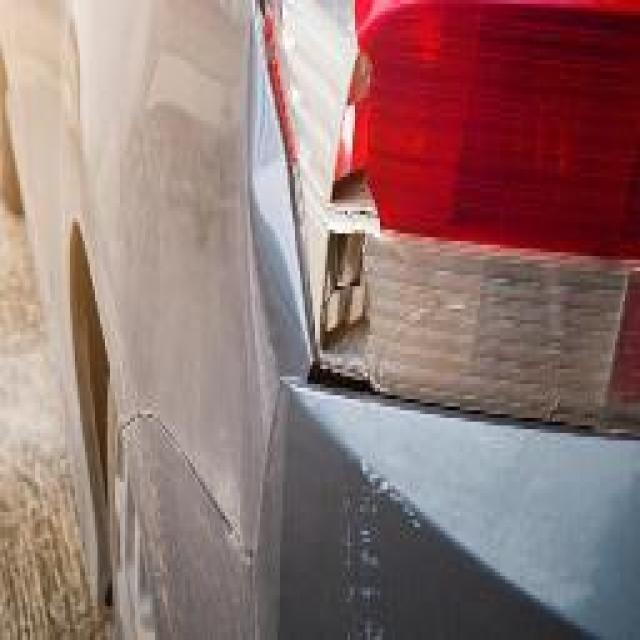Bumper: (259, 386, 437, 640)
Light: (267, 0, 519, 419)
